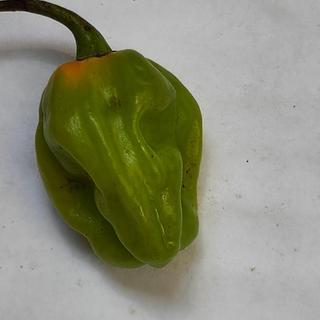Grade-A: (32, 43, 205, 271)
